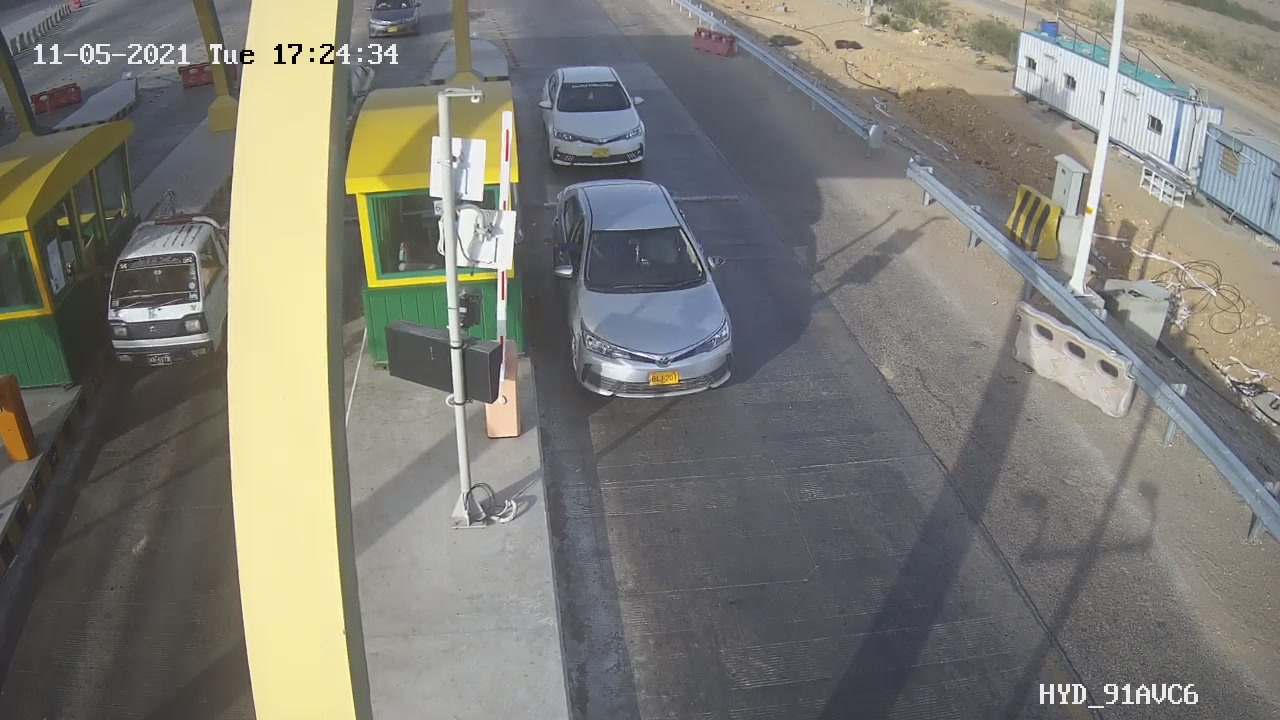F1: (529, 166, 761, 414), (522, 51, 670, 183)
